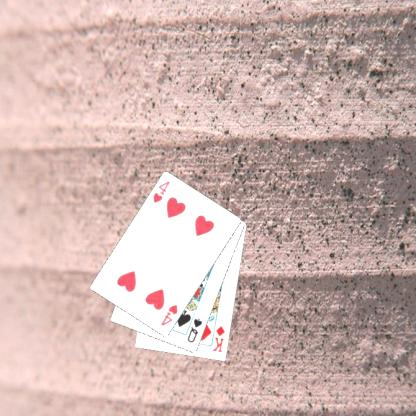4H: (150, 178, 172, 204), (158, 302, 179, 328)
KD: (210, 323, 226, 354)
QS: (184, 315, 204, 344)
